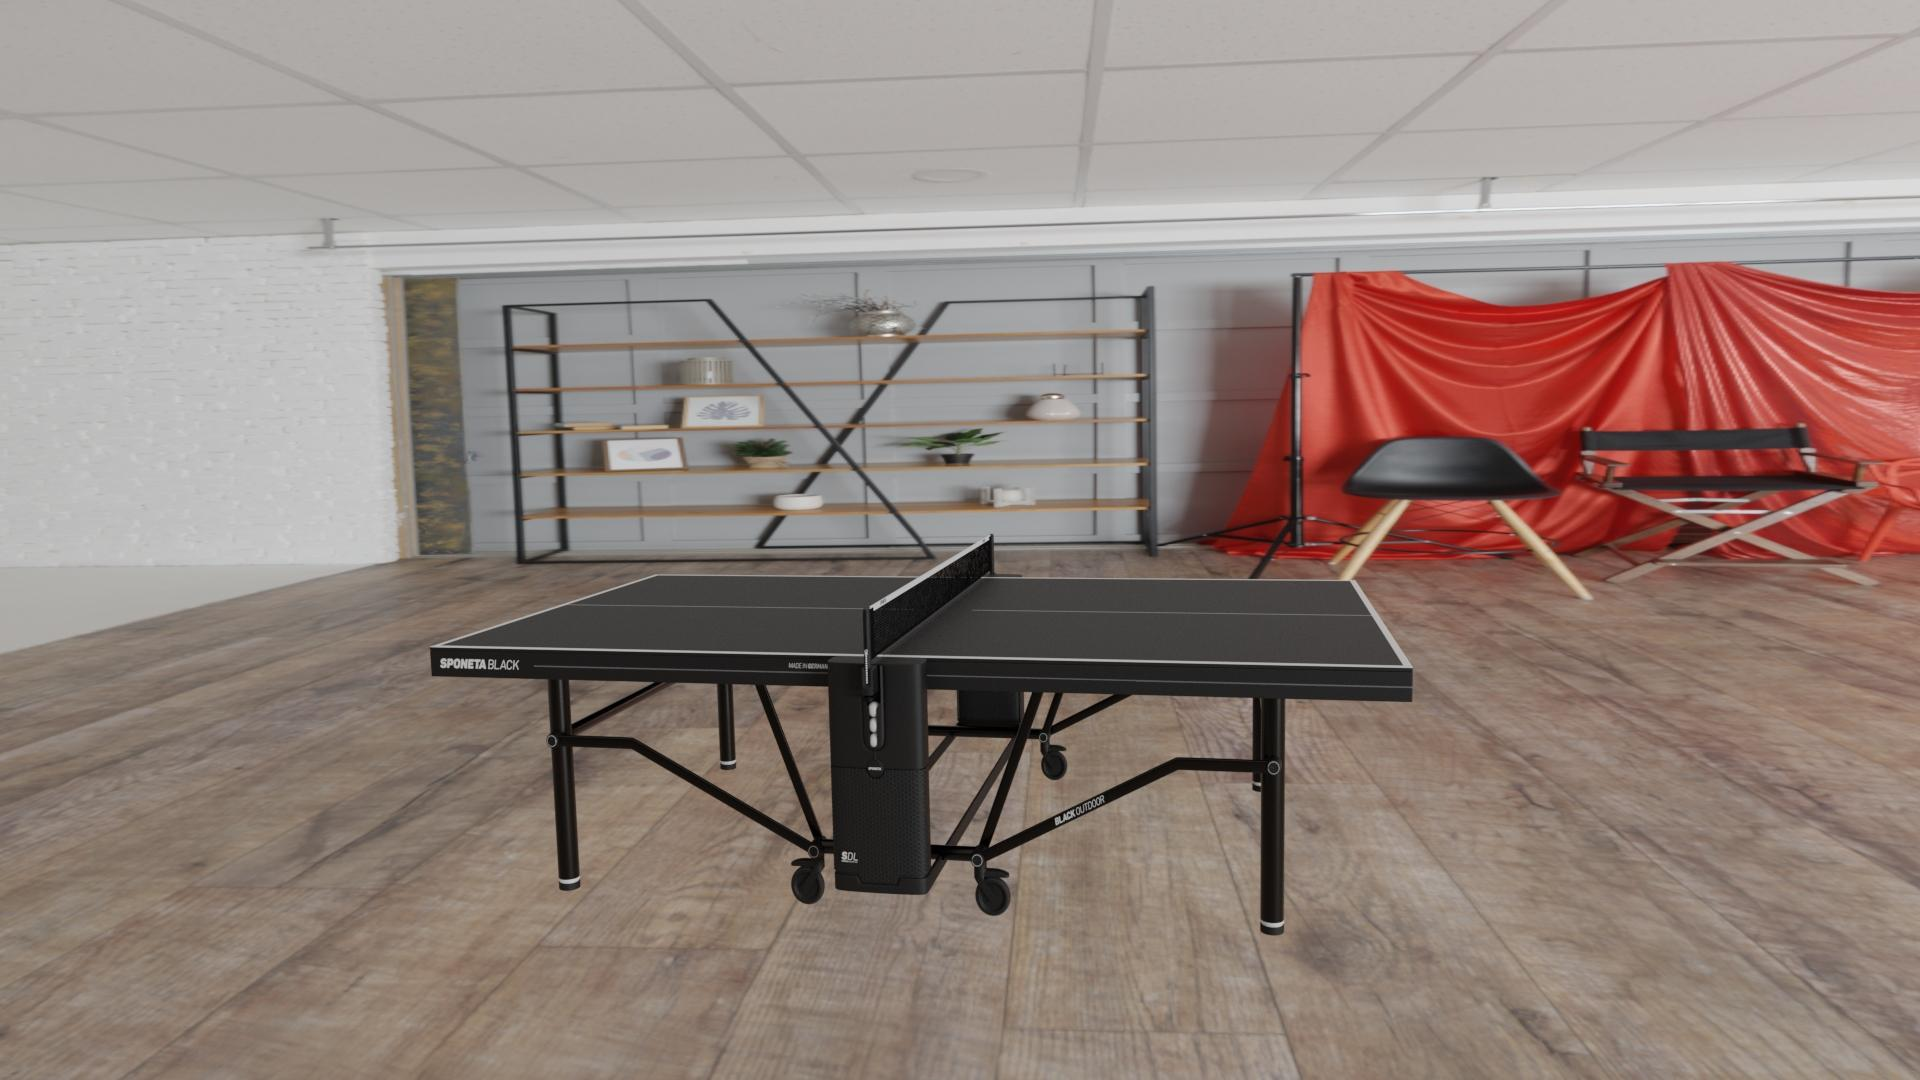table: (440, 575, 1403, 666)
